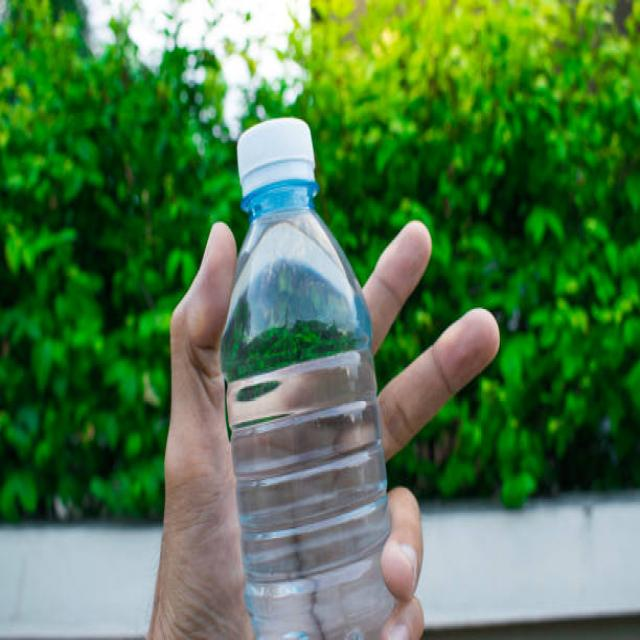plastic: (231, 126, 399, 639)
